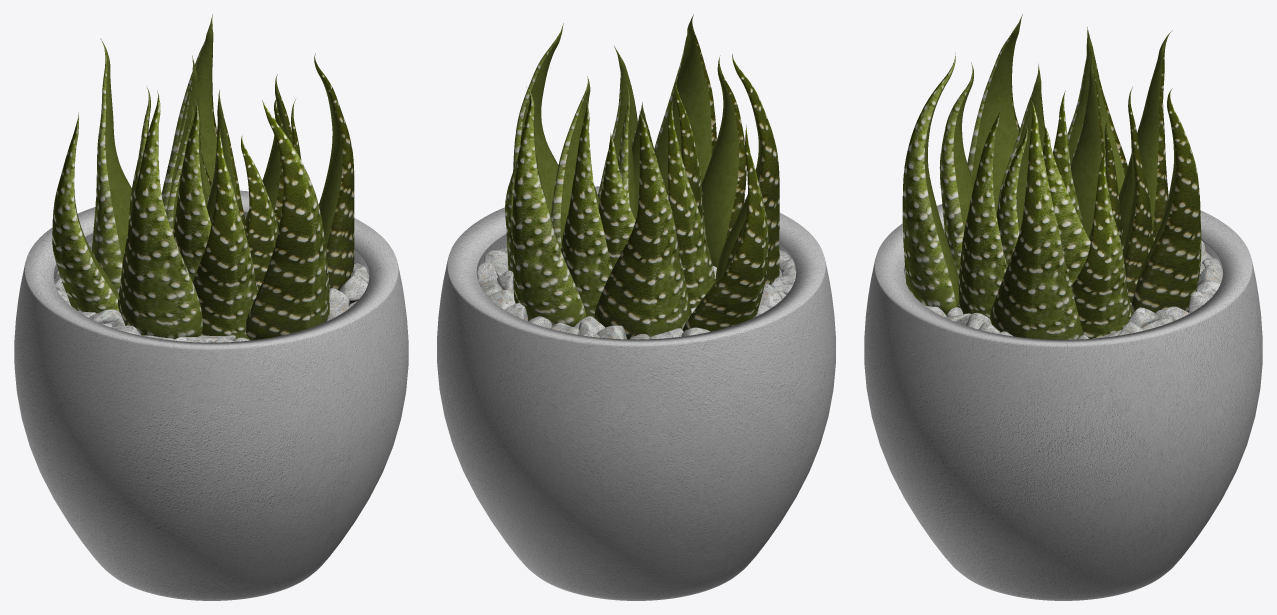
The model's file is haworthia.glb.
3 renders of one model, left to right at view 1: azimuth 30°, elevation 25°; view 2: azimuth 150°, elevation 25°; view 3: azimuth 270°, elevation 25°, orthographic.
Parts seen in each view (by area): view 1: Cylinder.006, Plane.081, Plane.080, Plane.084, Plane.085, Plane.082, Plane.079, Plane.091, Plane.083, Plane.092, Plane.087, Plane.094 (+3 smaller); view 2: Cylinder.006, Plane.082, Plane.083, Plane.085, Plane.087, Plane.084, Plane.080, Plane.086, Plane.081, Plane.079, Plane.093, Plane.090 (+5 smaller); view 3: Cylinder.006, Plane.079, Plane.083, Plane.080, Plane.088, Plane.089, Plane.081, Plane.082, Plane.084, Plane.086, Plane.087, Plane.090 (+5 smaller).
Boxes of the visible parts, left/top/right/bottom form: Cylinder.006: left=14, top=190, right=408, bottom=600; Plane.081: left=118, top=90, right=202, bottom=339; Plane.080: left=245, top=100, right=329, bottom=340; Plane.084: left=193, top=129, right=258, bottom=339; Plane.085: left=52, top=112, right=119, bottom=313; Plane.082: left=92, top=38, right=131, bottom=289; Plane.079: left=314, top=53, right=354, bottom=290; Plane.091: left=173, top=100, right=211, bottom=281; Plane.083: left=161, top=14, right=217, bottom=201; Plane.092: left=241, top=135, right=278, bottom=290; Plane.087: left=163, top=55, right=211, bottom=212; Plane.094: left=206, top=90, right=246, bottom=234; Cylinder.006: left=437, top=186, right=835, bottom=600; Plane.082: left=594, top=111, right=691, bottom=339; Plane.083: left=512, top=87, right=586, bottom=326; Plane.085: left=682, top=124, right=768, bottom=331; Plane.087: left=561, top=100, right=612, bottom=317; Plane.084: left=701, top=55, right=746, bottom=267; Plane.080: left=654, top=14, right=716, bottom=194; Plane.086: left=668, top=101, right=715, bottom=308; Plane.081: left=716, top=54, right=779, bottom=284; Plane.079: left=513, top=23, right=563, bottom=216; Plane.093: left=598, top=133, right=635, bottom=267; Plane.090: left=550, top=76, right=599, bottom=249; Cylinder.006: left=864, top=204, right=1262, bottom=600; Plane.079: left=990, top=100, right=1083, bottom=339; Plane.083: left=1131, top=88, right=1201, bottom=313; Plane.080: left=902, top=52, right=959, bottom=315; Plane.088: left=1071, top=148, right=1132, bottom=338; Plane.089: left=958, top=109, right=1007, bottom=318; Plane.081: left=967, top=14, right=1022, bottom=214; Plane.082: left=1119, top=30, right=1172, bottom=243; Plane.084: left=939, top=62, right=974, bottom=277; Plane.086: left=1070, top=53, right=1104, bottom=237; Plane.087: left=1123, top=87, right=1153, bottom=302; Plane.090: left=1043, top=127, right=1090, bottom=286.
Size of the model in its own units: 0.688 by 0.9609 by 0.688.
4 materials, 4 textured.
